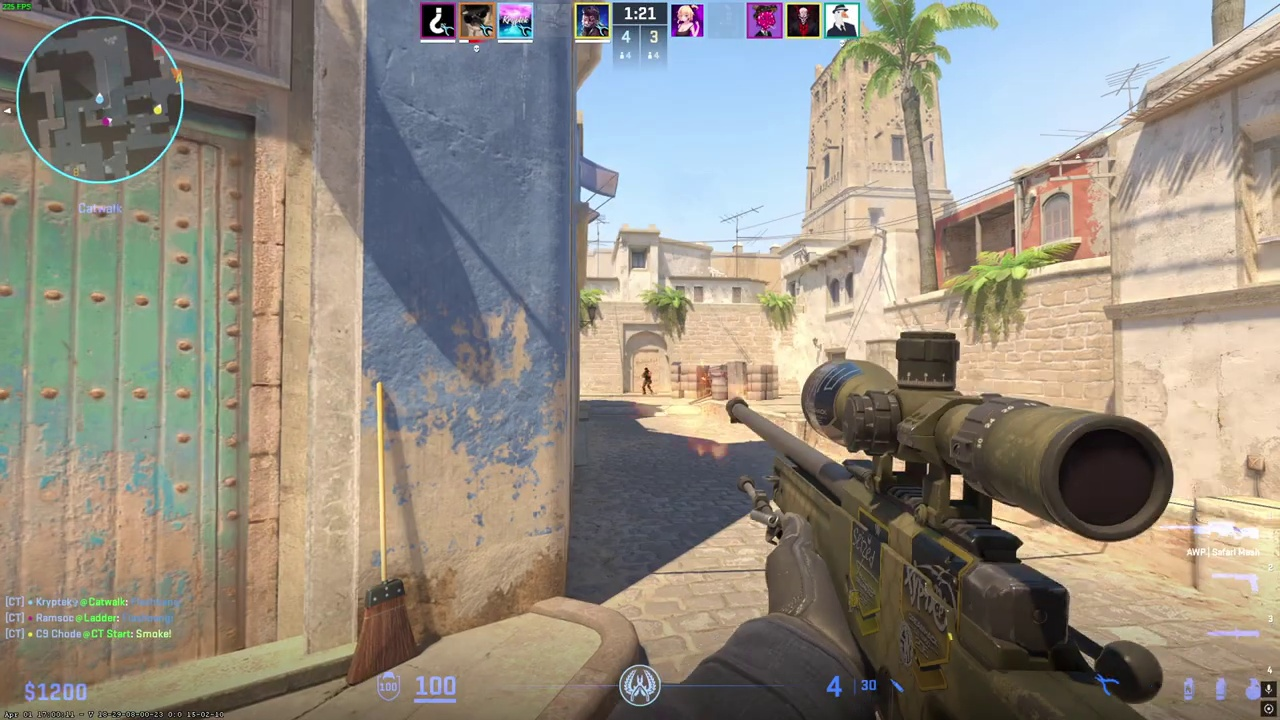Terrorist: (642, 368, 652, 395)
